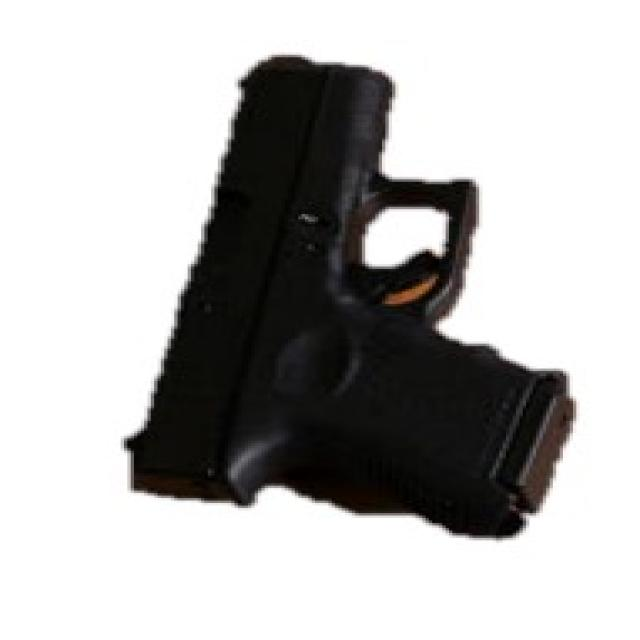pistol: (108, 46, 583, 551)
